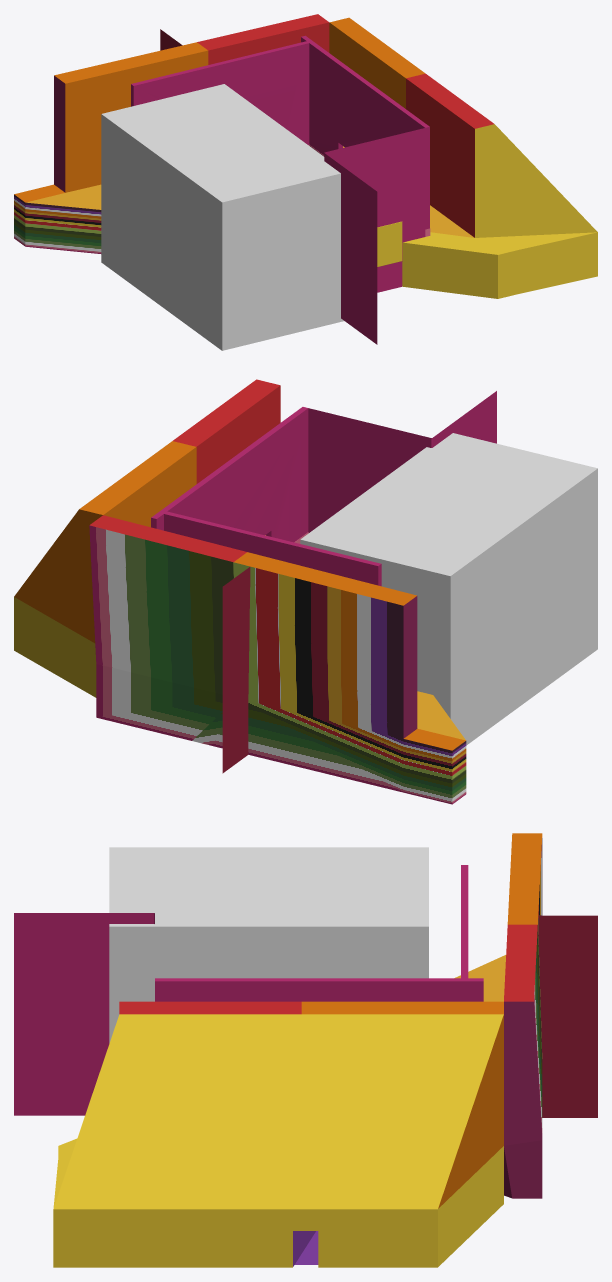
File: room1.fbx
3 views of the same model, one above another, from view 1: azimuth 30°, elevation 25°; view 2: azimuth 150°, elevation 25°; view 3: azimuth 270°, elevation 25° (orthographic). The views are drawn at different scales.
Parts seen in each view (by area): view 1: Cube, Plane.012, Plane.017, Plane.014, Plane.018, Plane.013, Cube.002; view 2: Plane.017, Cube, Plane.012, Plane.018, Plane.014, Plane.015, Plane.013; view 3: Plane.012, Cube, Plane.014, Plane.017, Plane.015, Plane.018, Plane.013.
Part boxes in pixels (<box>): Cube: <box>101,84,343,350</box>; Plane.012: <box>329,17,597,298</box>; Plane.017: <box>14,14,329,253</box>; Plane.014: <box>324,128,425,344</box>; Plane.018: <box>301,35,430,236</box>; Plane.013: <box>131,41,309,145</box>; Cube.002: <box>377,221,402,266</box>; Plane.017: <box>89,515,466,804</box>; Cube: <box>300,433,597,745</box>; Plane.012: <box>14,379,280,697</box>; Plane.018: <box>151,407,308,543</box>; Plane.014: <box>308,391,496,532</box>; Plane.015: <box>222,567,250,773</box>; Plane.013: <box>164,511,381,586</box>; Plane.012: <box>53,1001,503,1267</box>; Cube: <box>109,847,428,1043</box>; Plane.014: <box>14,913,154,1115</box>; Plane.017: <box>454,833,542,1198</box>; Plane.015: <box>538,915,597,1117</box>; Plane.018: <box>155,978,483,1001</box>; Plane.013: <box>461,865,468,978</box>.
Size of the model in its own units: 8225 by 3087 by 7890.
